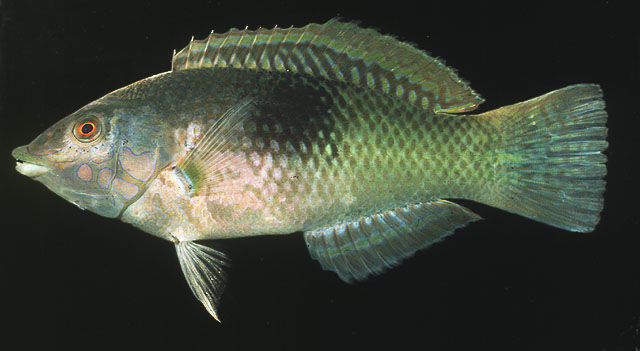fish: (11, 14, 612, 323)
